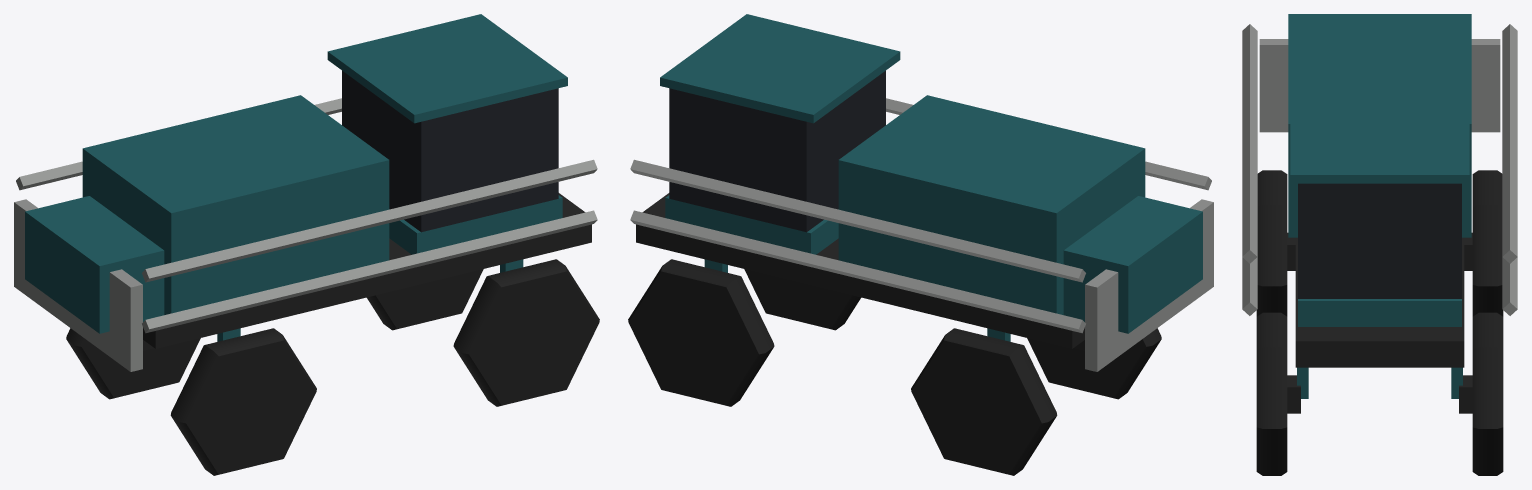
Rendered from SM_Prop_farm_sprayer_0_LOD2.glb.
3 views of the same model, side by side, from view 1: azimuth 30°, elevation 25°; view 2: azimuth 150°, elevation 25°; view 3: azimuth 270°, elevation 25° (orthographic). The views are drawn at different scales.
Parts seen in each view (by area): view 1: SM_Prop_farm_sprayer_0_LOD2; view 2: SM_Prop_farm_sprayer_0_LOD2; view 3: SM_Prop_farm_sprayer_0_LOD2.
Part boxes in pixels (box(x1,y1,x2,y2)): SM_Prop_farm_sprayer_0_LOD2: box(14, 14, 599, 475); SM_Prop_farm_sprayer_0_LOD2: box(628, 14, 1213, 475); SM_Prop_farm_sprayer_0_LOD2: box(1242, 14, 1517, 475).
Bounding box in the file's own units: 6.05 × 3.54 × 2.86.
